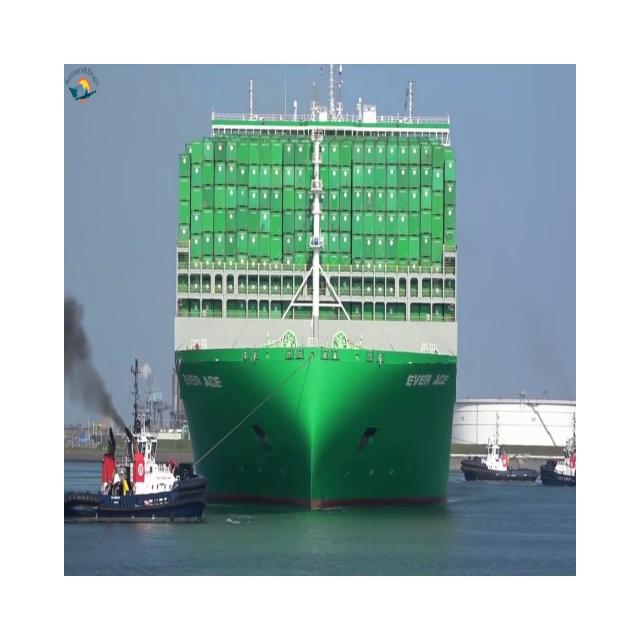OCR: (396, 362, 456, 408), (180, 361, 228, 399)
